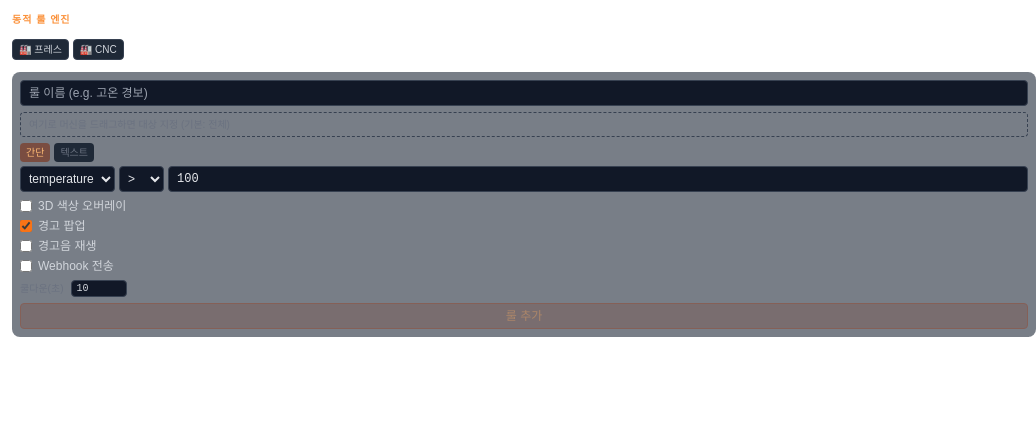
Test: RuleEditorPanel — B: simple condition builder mode › updates the assembled condition string when the threshold input changes, preserving decimals
Replace the text in the field with test id "rule-simple-threshold" with "98.6". click: (598, 179)
box: [168,166,1028,192]
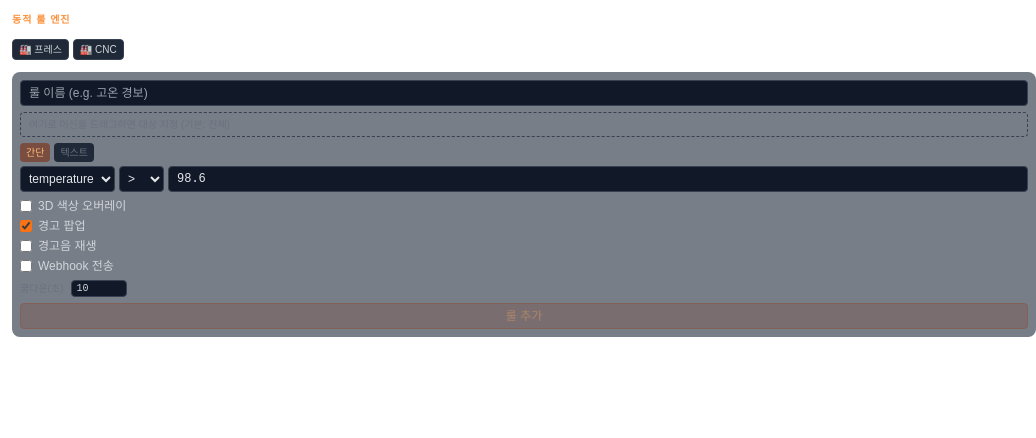
Type "체온 경보" into the field with placeholder "룰 이름 (e.g. 고온 경보)". click: (524, 93)
box: [20,80,1028,106]
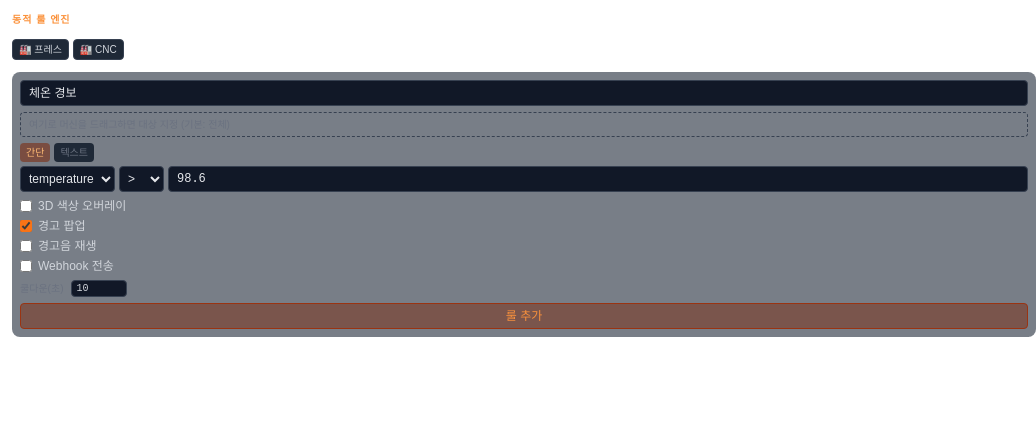
Click the button "룰 추가". click: (524, 316)
box: [20,303,1028,329]
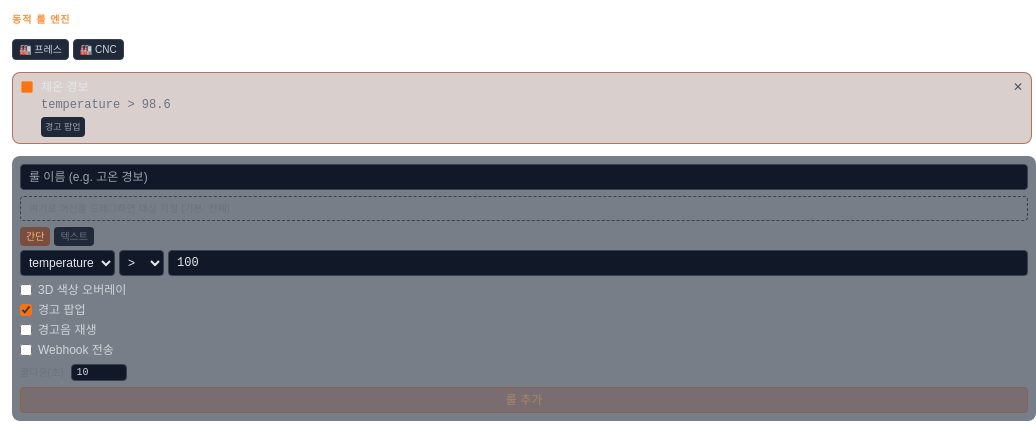
Now the text "temperature > 98.6" is shown, box [41,98,171,112]
